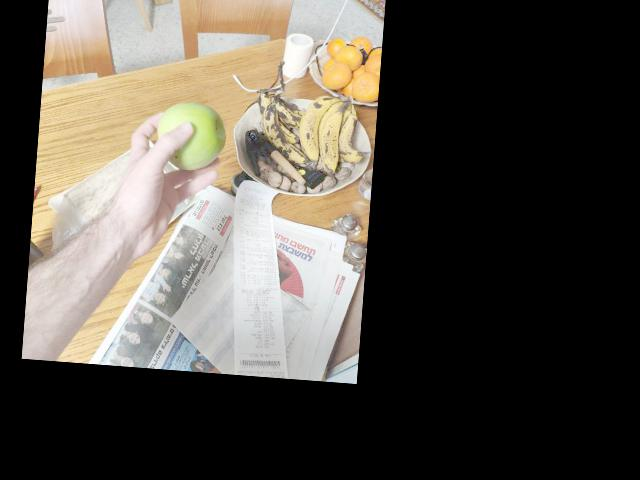apple: (162, 95, 228, 179)
